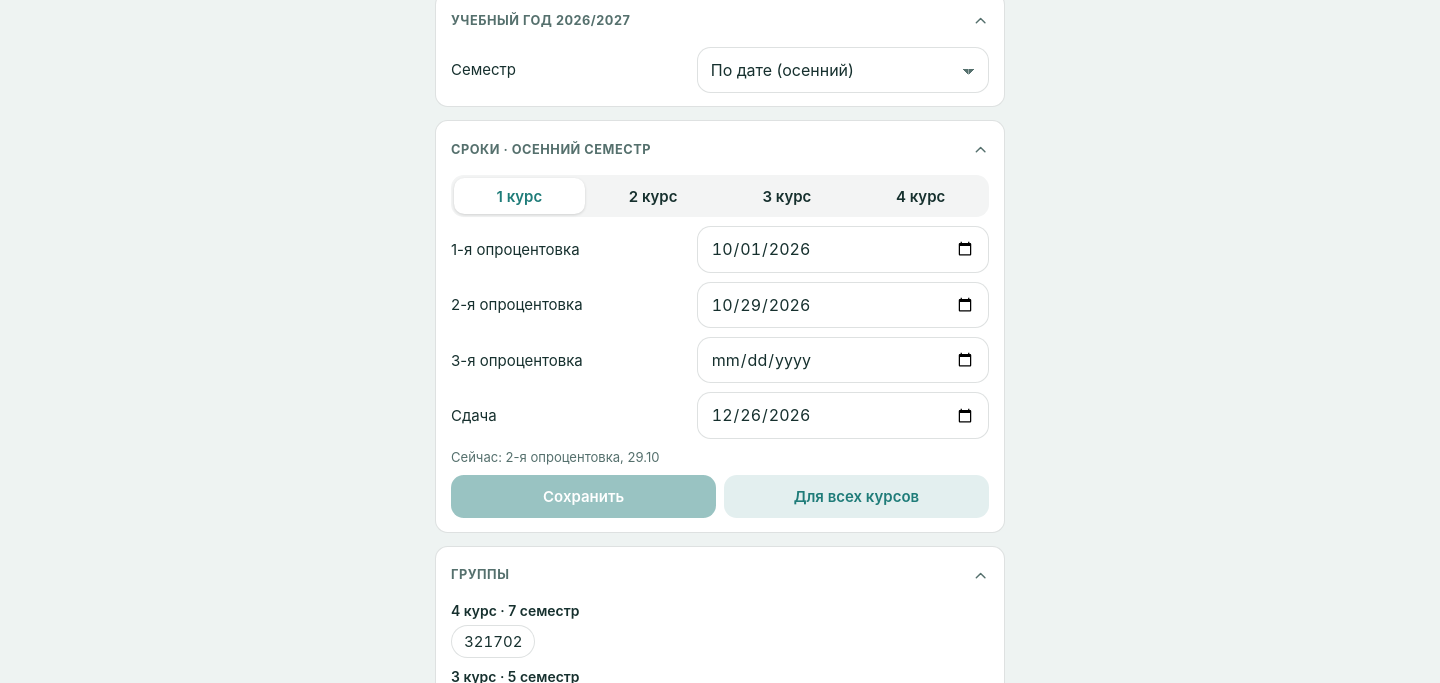
администратор › назначает студента администратором из правки и только после предупреждения об удалении данных
Click the button "321702": (493,642) [451, 625, 535, 658]
(page scrolled)
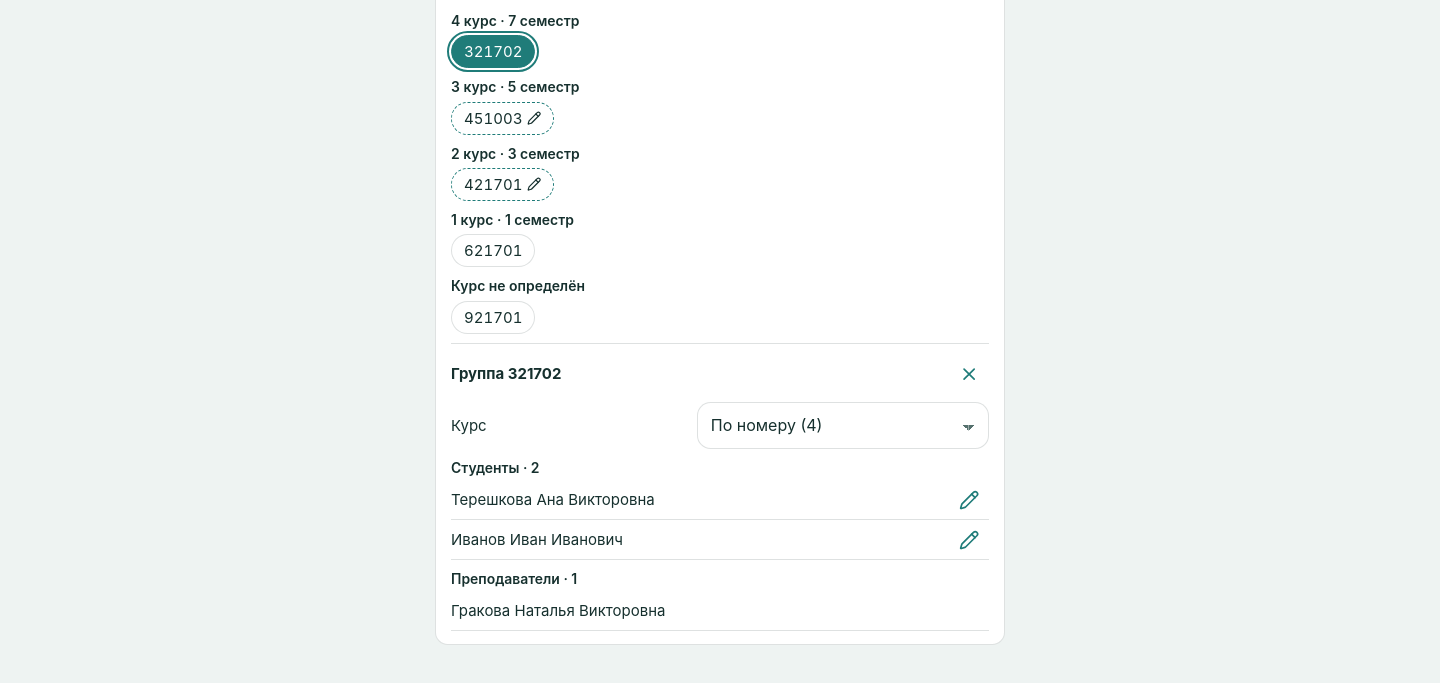
Click the button named "Изменить: Терешкова Ана Викторовна" in the row of "Терешкова Ана Викторовна": (970,500) [950, 480, 989, 519]
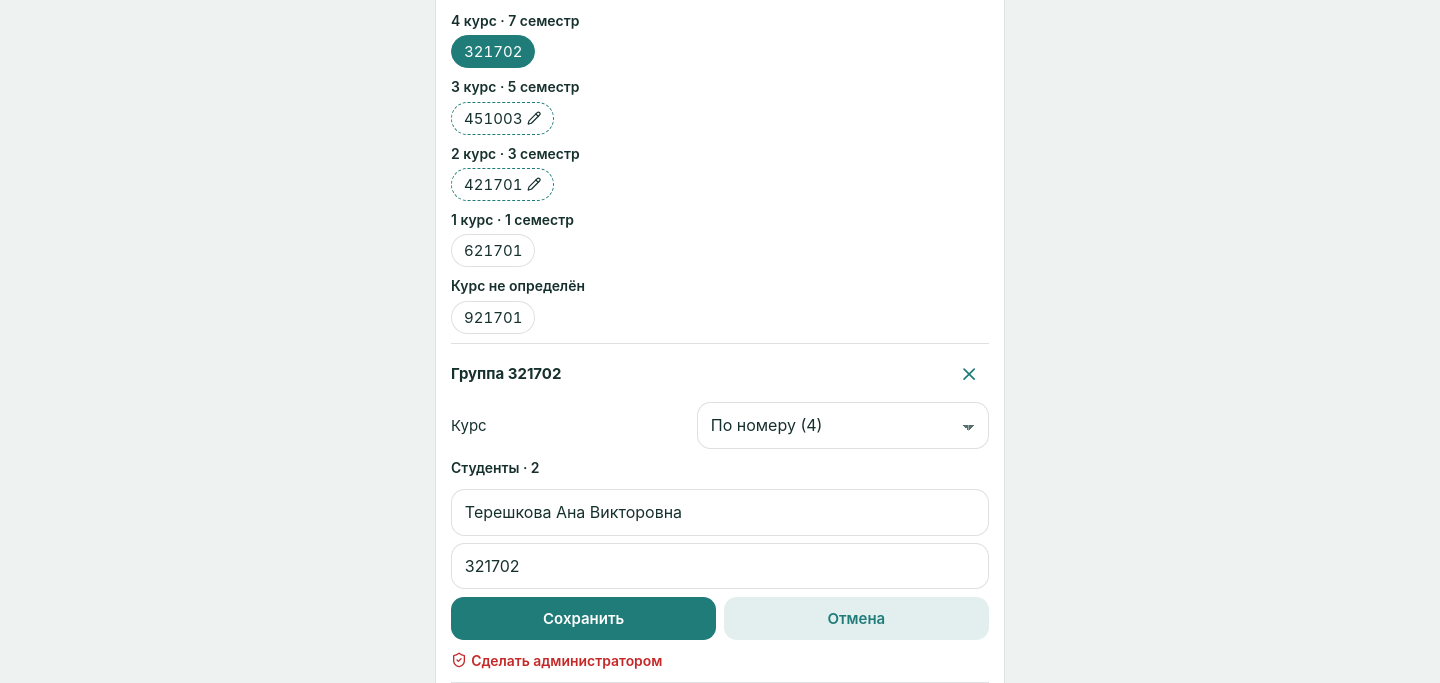
Click the button "Сделать администратором": (557,661) [451, 648, 662, 673]
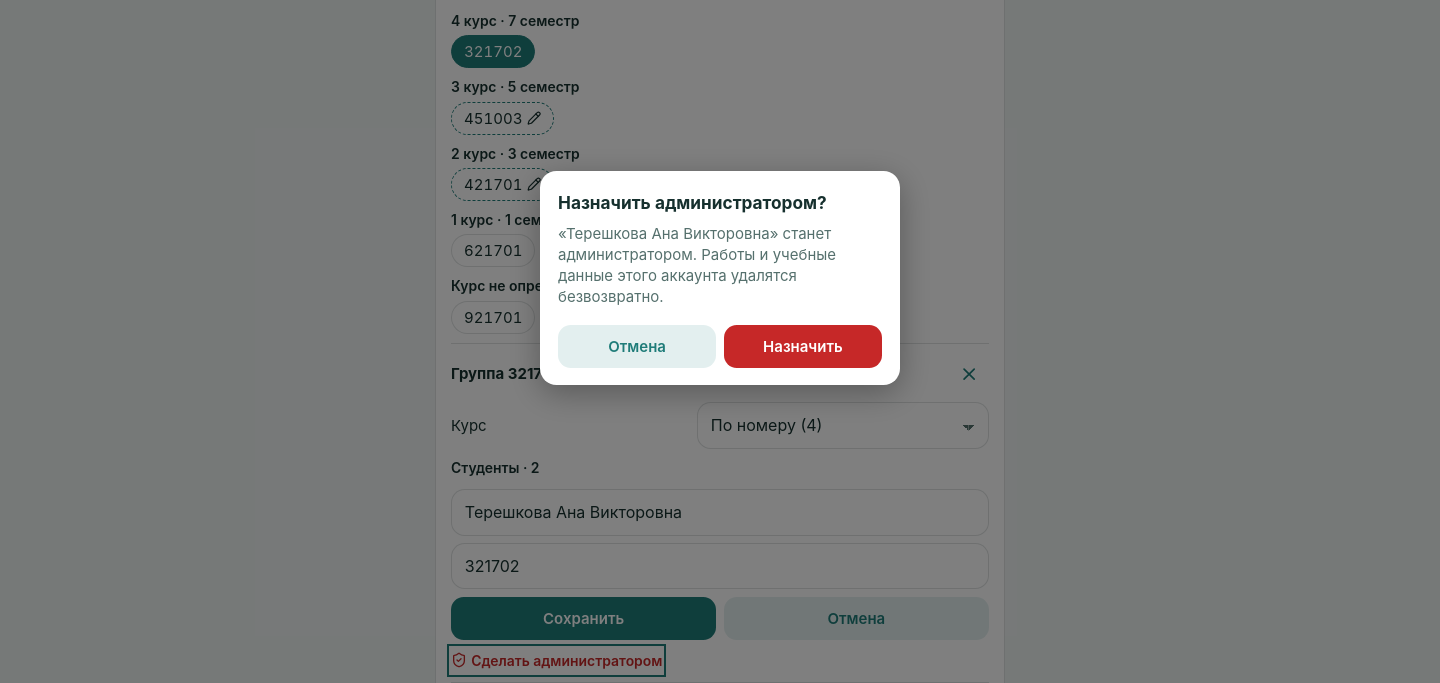
Click the button "Отмена": (637,346) [558, 325, 716, 368]
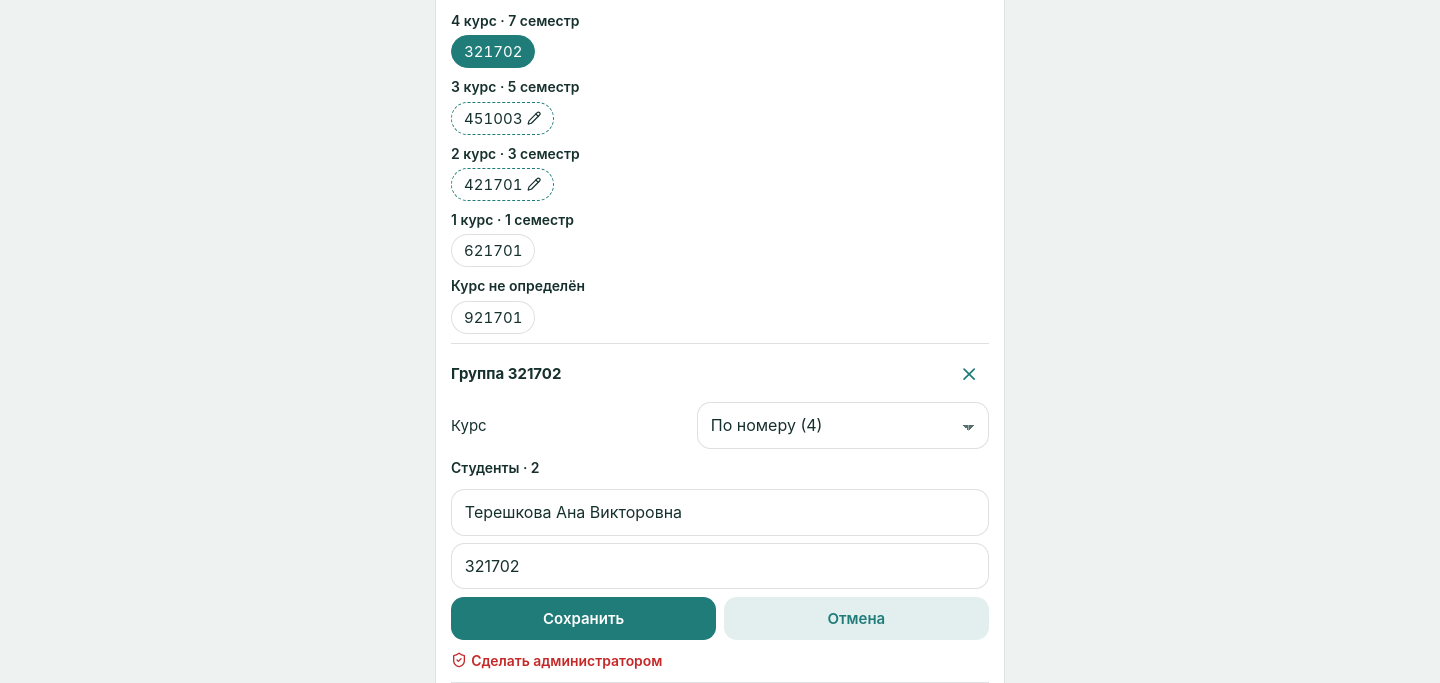
Click the button "Сделать администратором": (557,661) [451, 648, 662, 673]
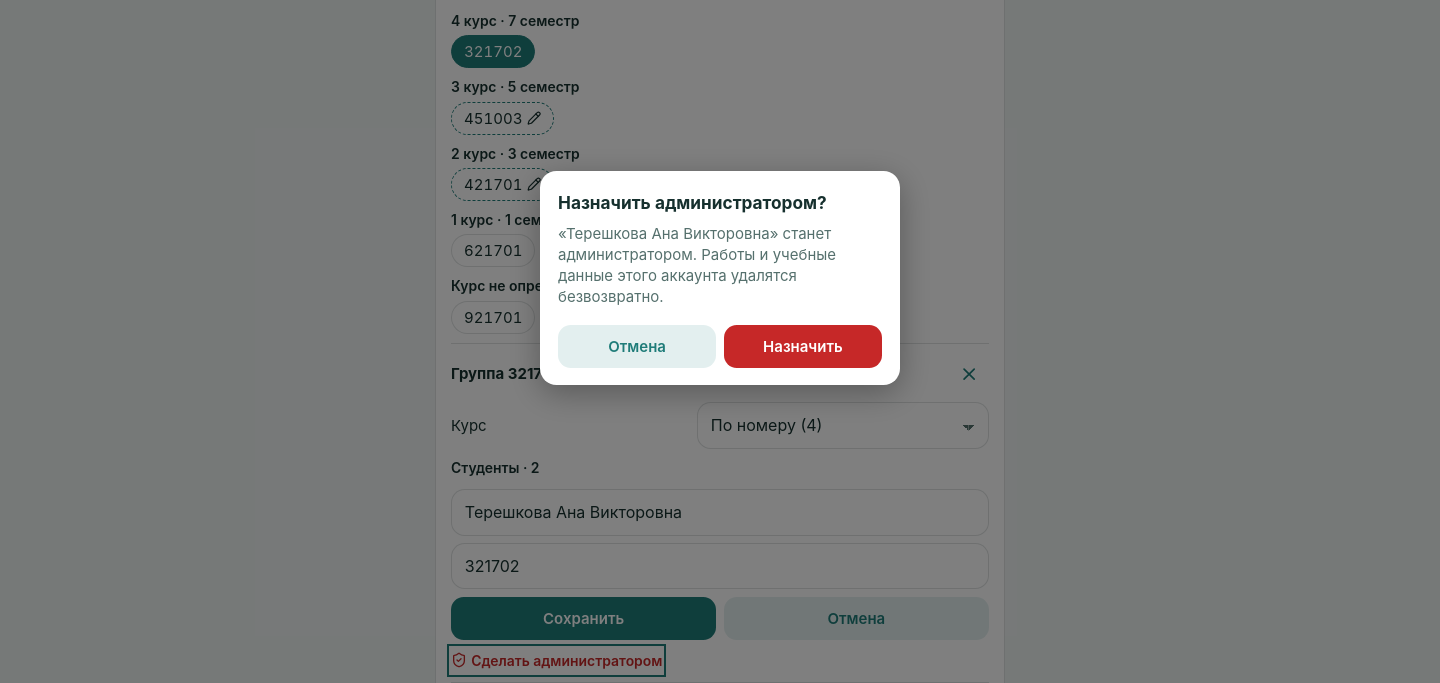
Click the button "Назначить": (803,346) [724, 325, 882, 368]
(page scrolled)
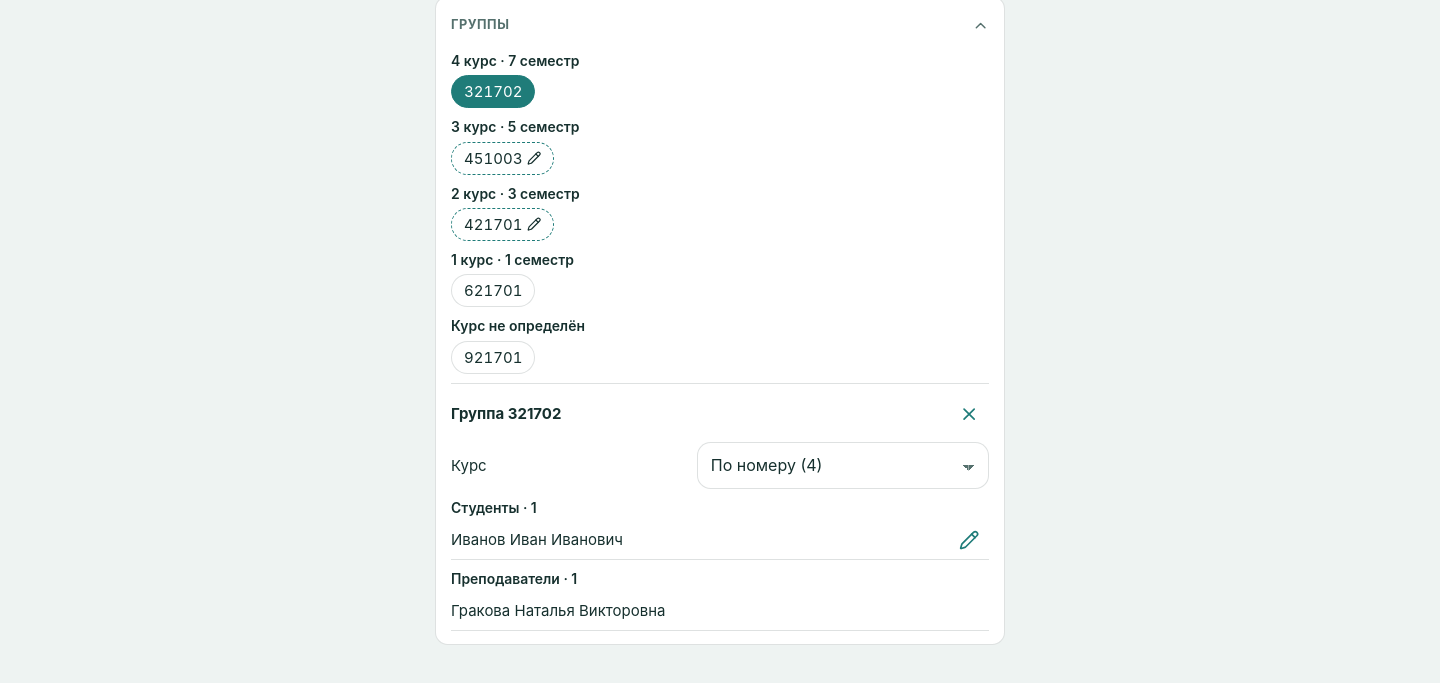
Now the text "Иванов Иван Иванович" is shown, box [451, 530, 623, 549]
Now the text "Терешкова Ана Викторовна" is gone
